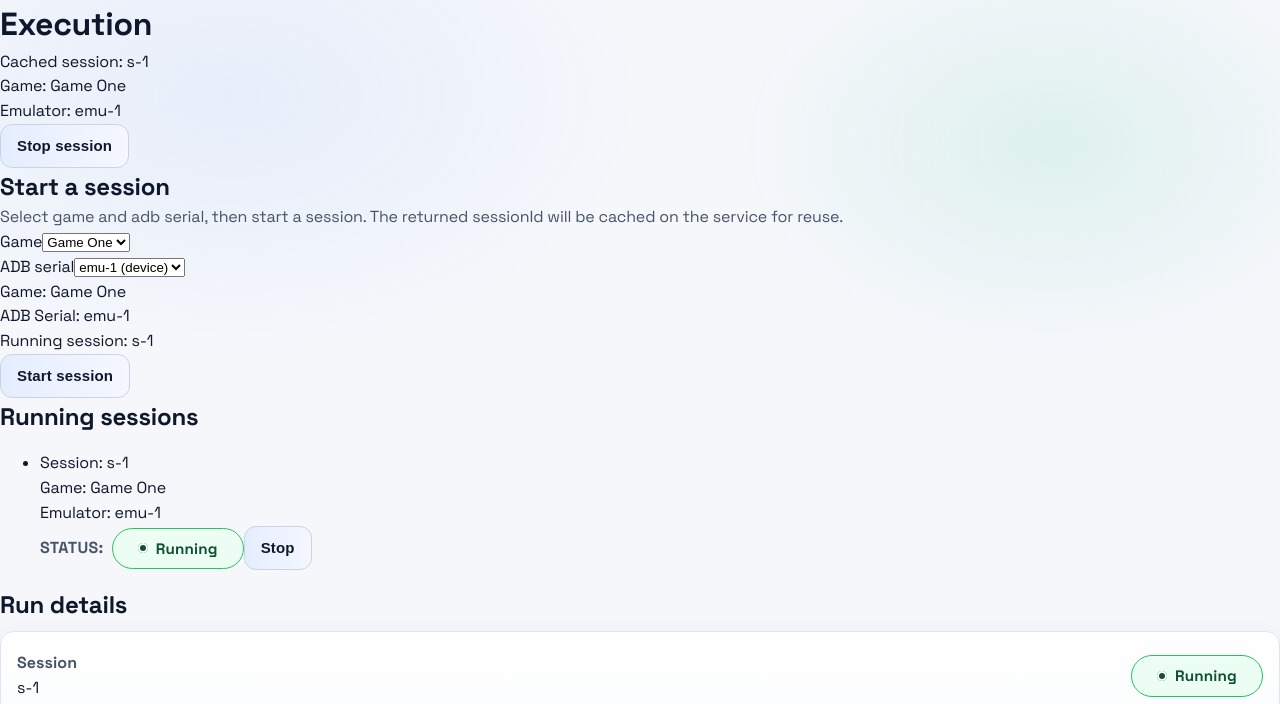
Running sessions list › removes a session after stop refresh
Expected: the text "Session: s-1" is shown, x1=40 y1=452 x2=128 y2=473
Click the button "Stop": click(278, 548) x1=244 y1=526 x2=312 y2=570
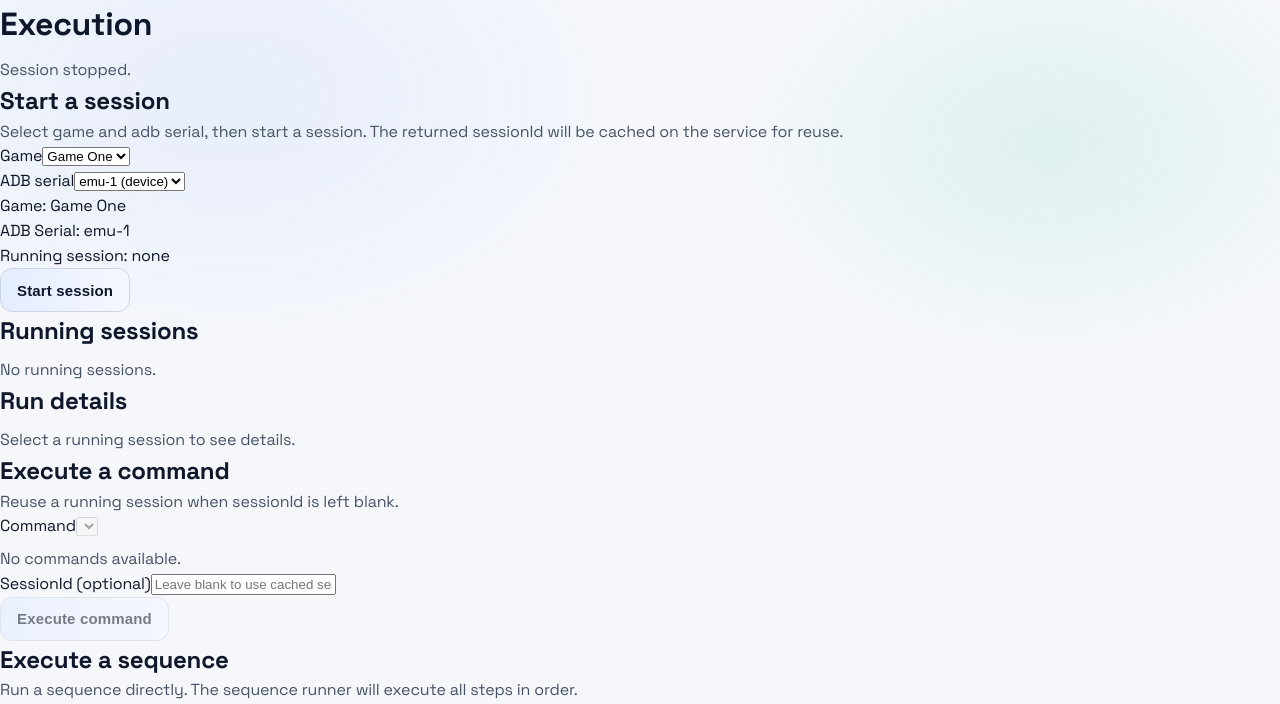
Expected: the text "session: s-1" is gone
